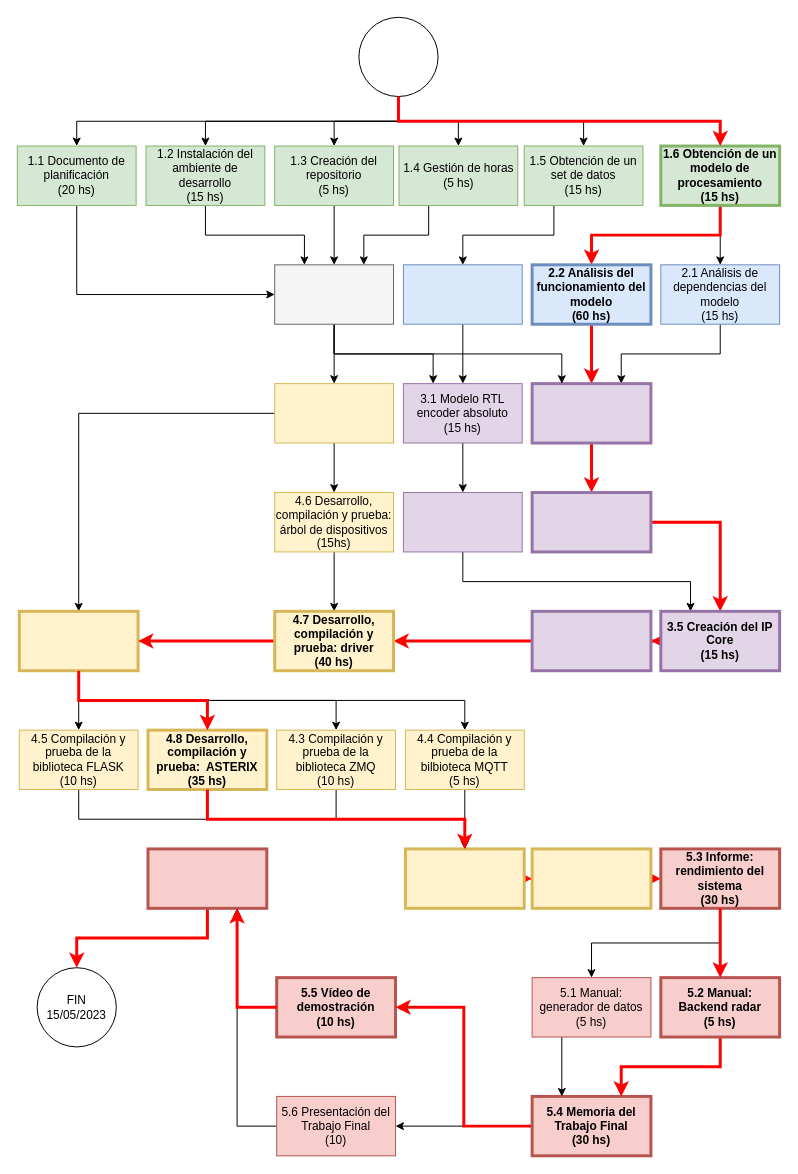
This 798x1174 diagram has some shape labels left out. The shapes that lost their labels are listed below. From the top down, each one's centre as x and y in pixels, then its label:
At point (398, 56): "INICIO 29/06/2022".
At point (334, 294): "HITO: administración finalizada (0 hs)".
At point (462, 294): "2.3 Análisis del set de datos (50 hs)".
At point (334, 413): "4.1 Creación y prueba del proyecto Petalinux (5 hs)".
At point (591, 413): "3.3 Modelo RTL del generador de datos (39 hs)".
At point (462, 522): "3.2 Simulación, síntesis y depuración del encoder (15 hs)".
At point (591, 522): "3.4 Simulación síntesis y depuración gen. de datos (15 hs)".
At point (78, 640): "4.2 Compilación y prueba del intérprete de Python (5 hs)".
At point (591, 640): "3.6 Pruebas del IP Core (25 hs)".
At point (207, 878): "5.7 Defensa pública (1 hs)".
At point (464, 878): "4.9 Integración Backend radar (40 hs)".
At point (591, 878): "4.10 Pruebas de funcionamiento (20 hs)".
